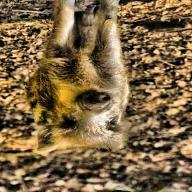boar: (22, 1, 130, 160)
